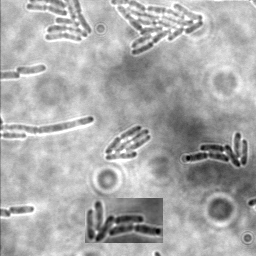Dividing: (1, 114, 95, 133), (8, 204, 35, 215)
Microcolony: (109, 1, 205, 56), (85, 198, 163, 243), (25, 1, 94, 44), (184, 130, 248, 167), (103, 124, 150, 160), (16, 63, 48, 74)
